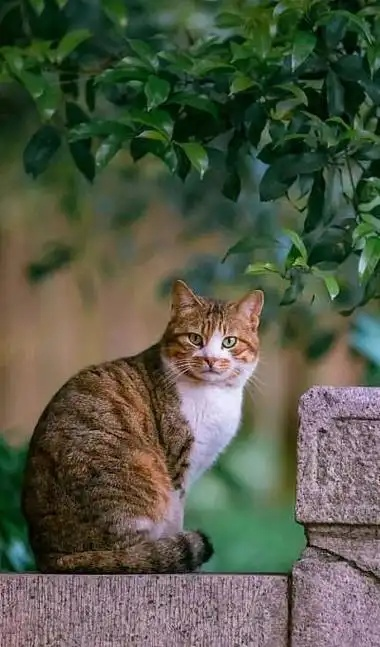狸花猫: (23, 281, 263, 572)
